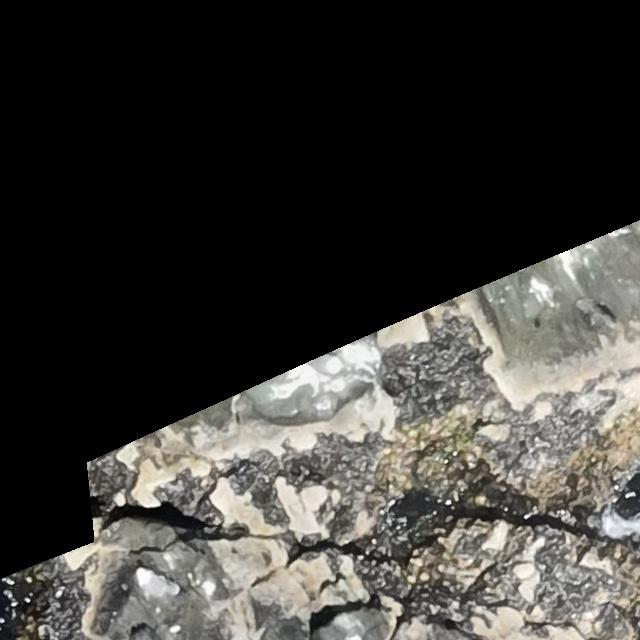umineko: (136, 569, 178, 599), (314, 354, 342, 375)
